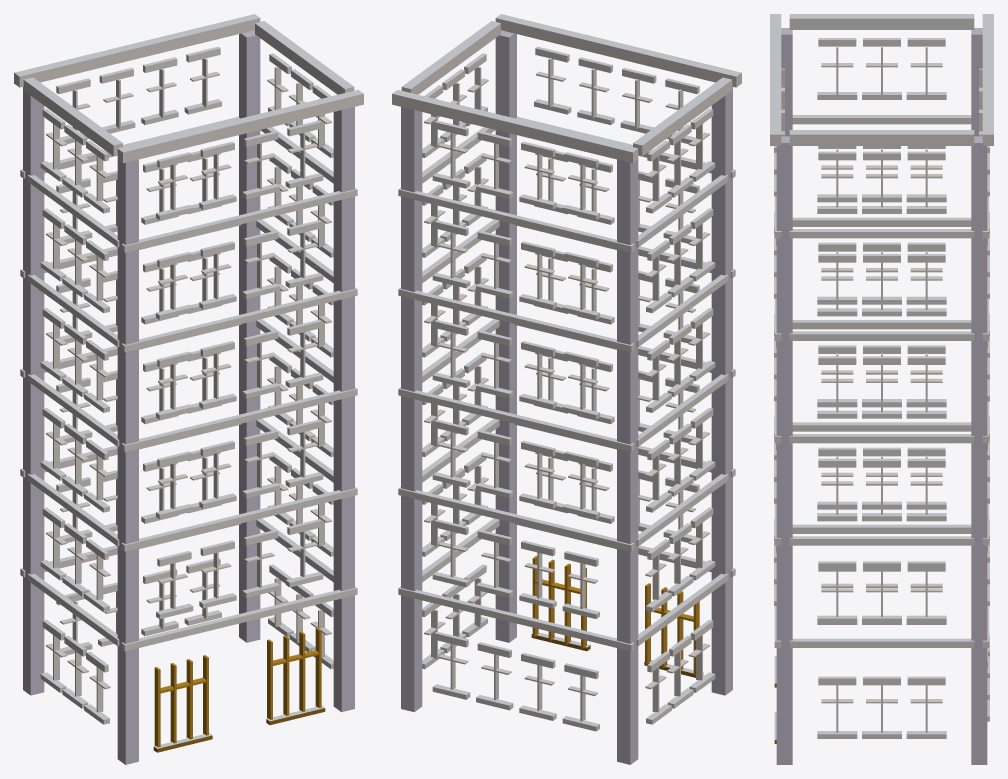
Rendered from Apartment_Plum_Trim.glb.
3 renders of one model, left to right at view 1: azimuth 30°, elevation 25°; view 2: azimuth 150°, elevation 25°; view 3: azimuth 270°, elevation 25°, orthographic. The views are drawn at different scales.
Parts seen in each view (by area): view 1: Apartment_Plum_Trim; view 2: Apartment_Plum_Trim; view 3: Apartment_Plum_Trim.
Part boxes in pixels (x1,y1,x2,y2): Apartment_Plum_Trim: [14, 14, 363, 764]; Apartment_Plum_Trim: [392, 14, 741, 764]; Apartment_Plum_Trim: [770, 14, 993, 764].
Bounding box in the file's own units: 27.8 × 68 × 21.8.
